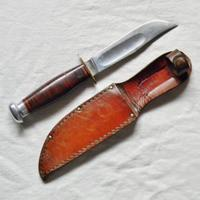knife: (5, 16, 179, 127)
